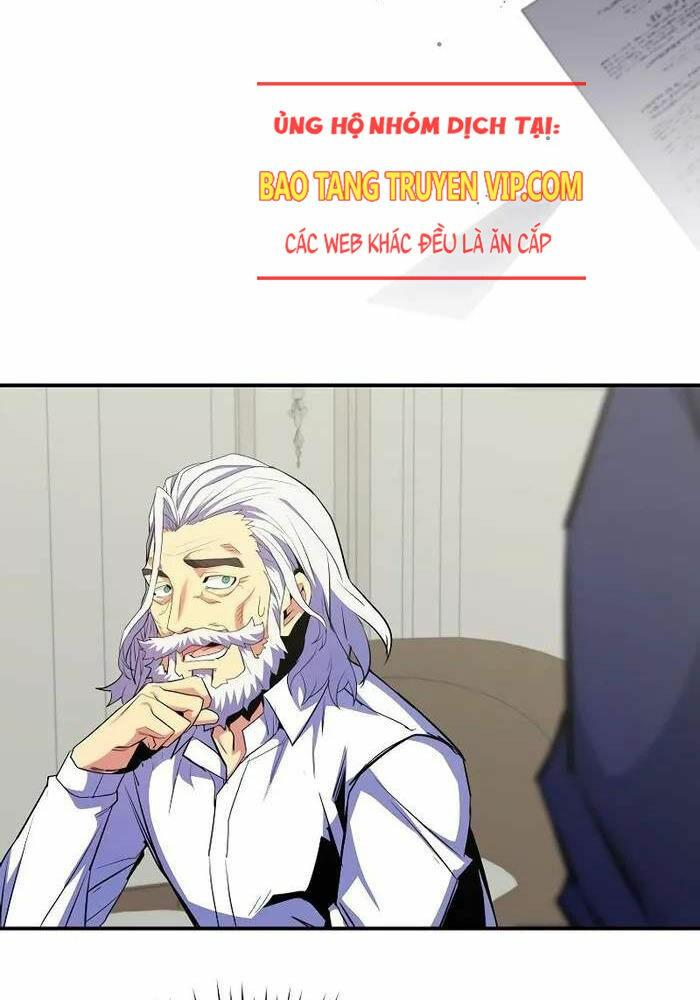quangcao: (256, 79, 590, 283)
